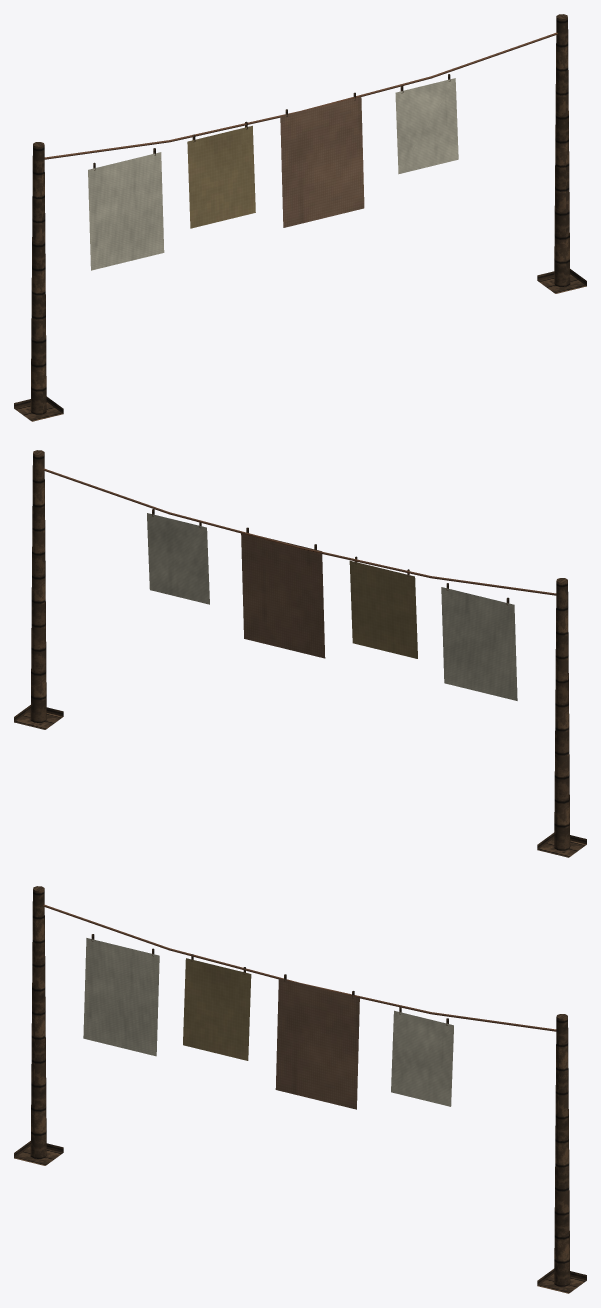
The model's file is prop.clothesline.glb.
The picture shows the model from 3 angles, top to bottom: view 1: azimuth 30°, elevation 25°; view 2: azimuth 150°, elevation 25°; view 3: azimuth 330°, elevation 25°; orthographic projection.
Visible parts, largest first — view 1: prop.clothesline; view 2: prop.clothesline; view 3: prop.clothesline.
Boxes of the visible parts, x1,y1,x2,y2 form: prop.clothesline: (14,14,586,421); prop.clothesline: (14,450,586,857); prop.clothesline: (14,886,586,1293).
Bounding box in the file's own units: 4.24 × 1.95 × 0.24.
Materials: 5 (5 with a texture image).
